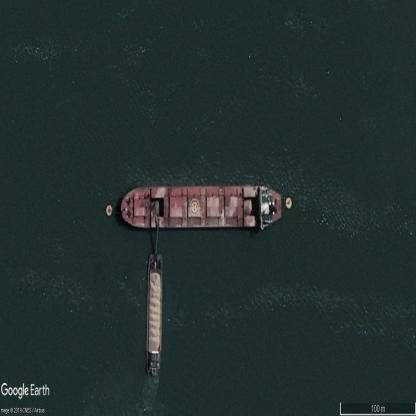ship: (122, 178, 282, 227), (146, 248, 163, 378)
